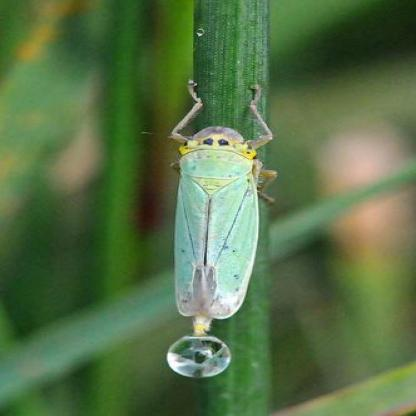Green-Leafhopper: (156, 76, 281, 344)
